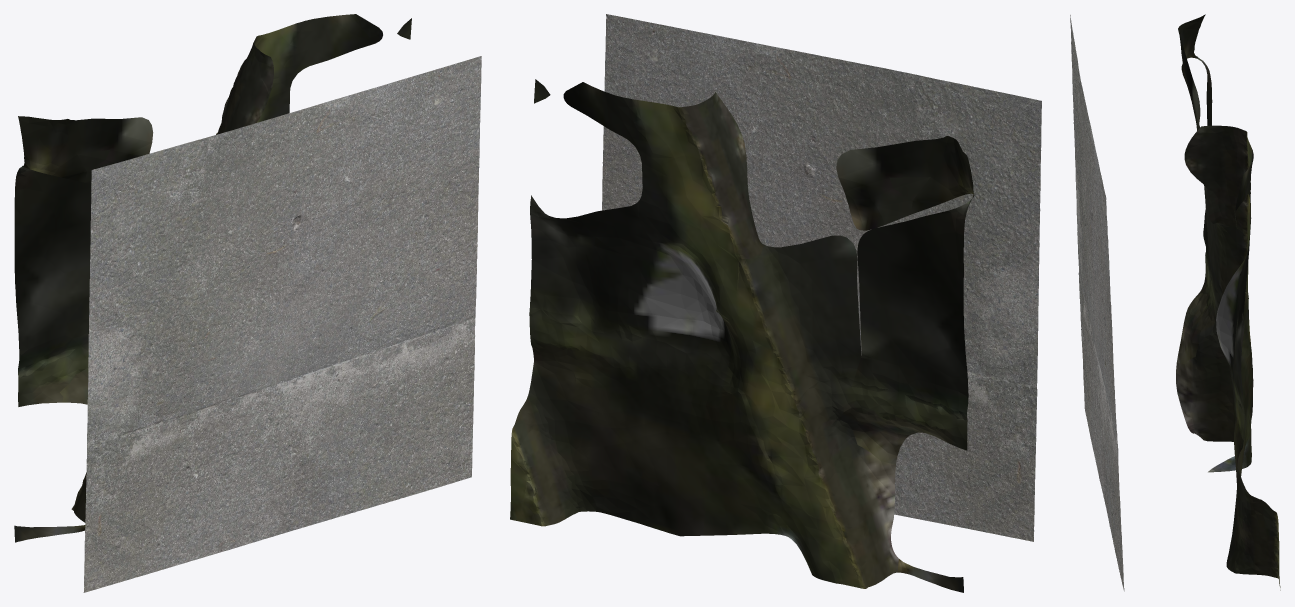
File: Tile_+008_+012.fbx
3 views of the same model, side by side, from view 1: azimuth 30°, elevation 25°; view 2: azimuth 150°, elevation 25°; view 3: azimuth 270°, elevation 25° (orthographic). The views are drawn at different scales.
Parts seen in each view (by area): view 1: Tile_+008_+012_LOD0; view 2: Tile_+008_+012_LOD0; view 3: Tile_+008_+012_LOD0.
Boxes of the visible parts, <box> form: Tile_+008_+012_LOD0: <box>14,14,481,592</box>; Tile_+008_+012_LOD0: <box>510,14,1041,592</box>; Tile_+008_+012_LOD0: <box>1070,14,1280,591</box>.
Size of what is drawn, in the model's own units: 303 by 303 by 146.
